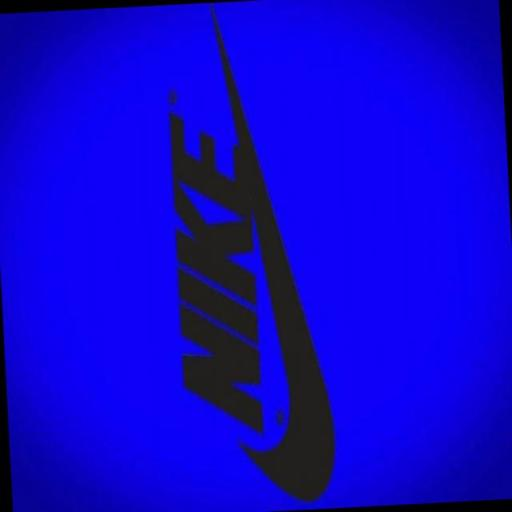Nike: (207, 0, 338, 507), (167, 96, 271, 444)
